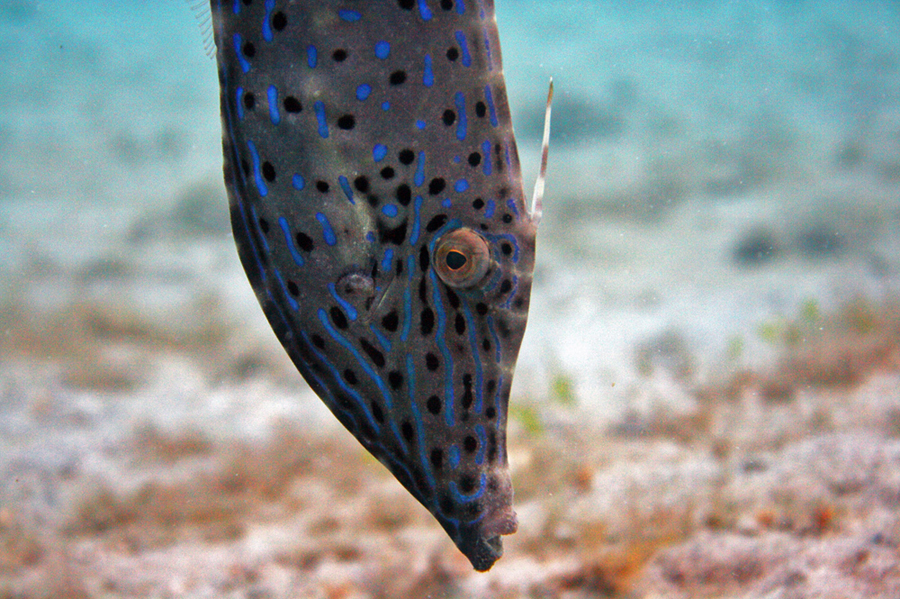Aluterus_scriptus: (203, 1, 555, 581)
